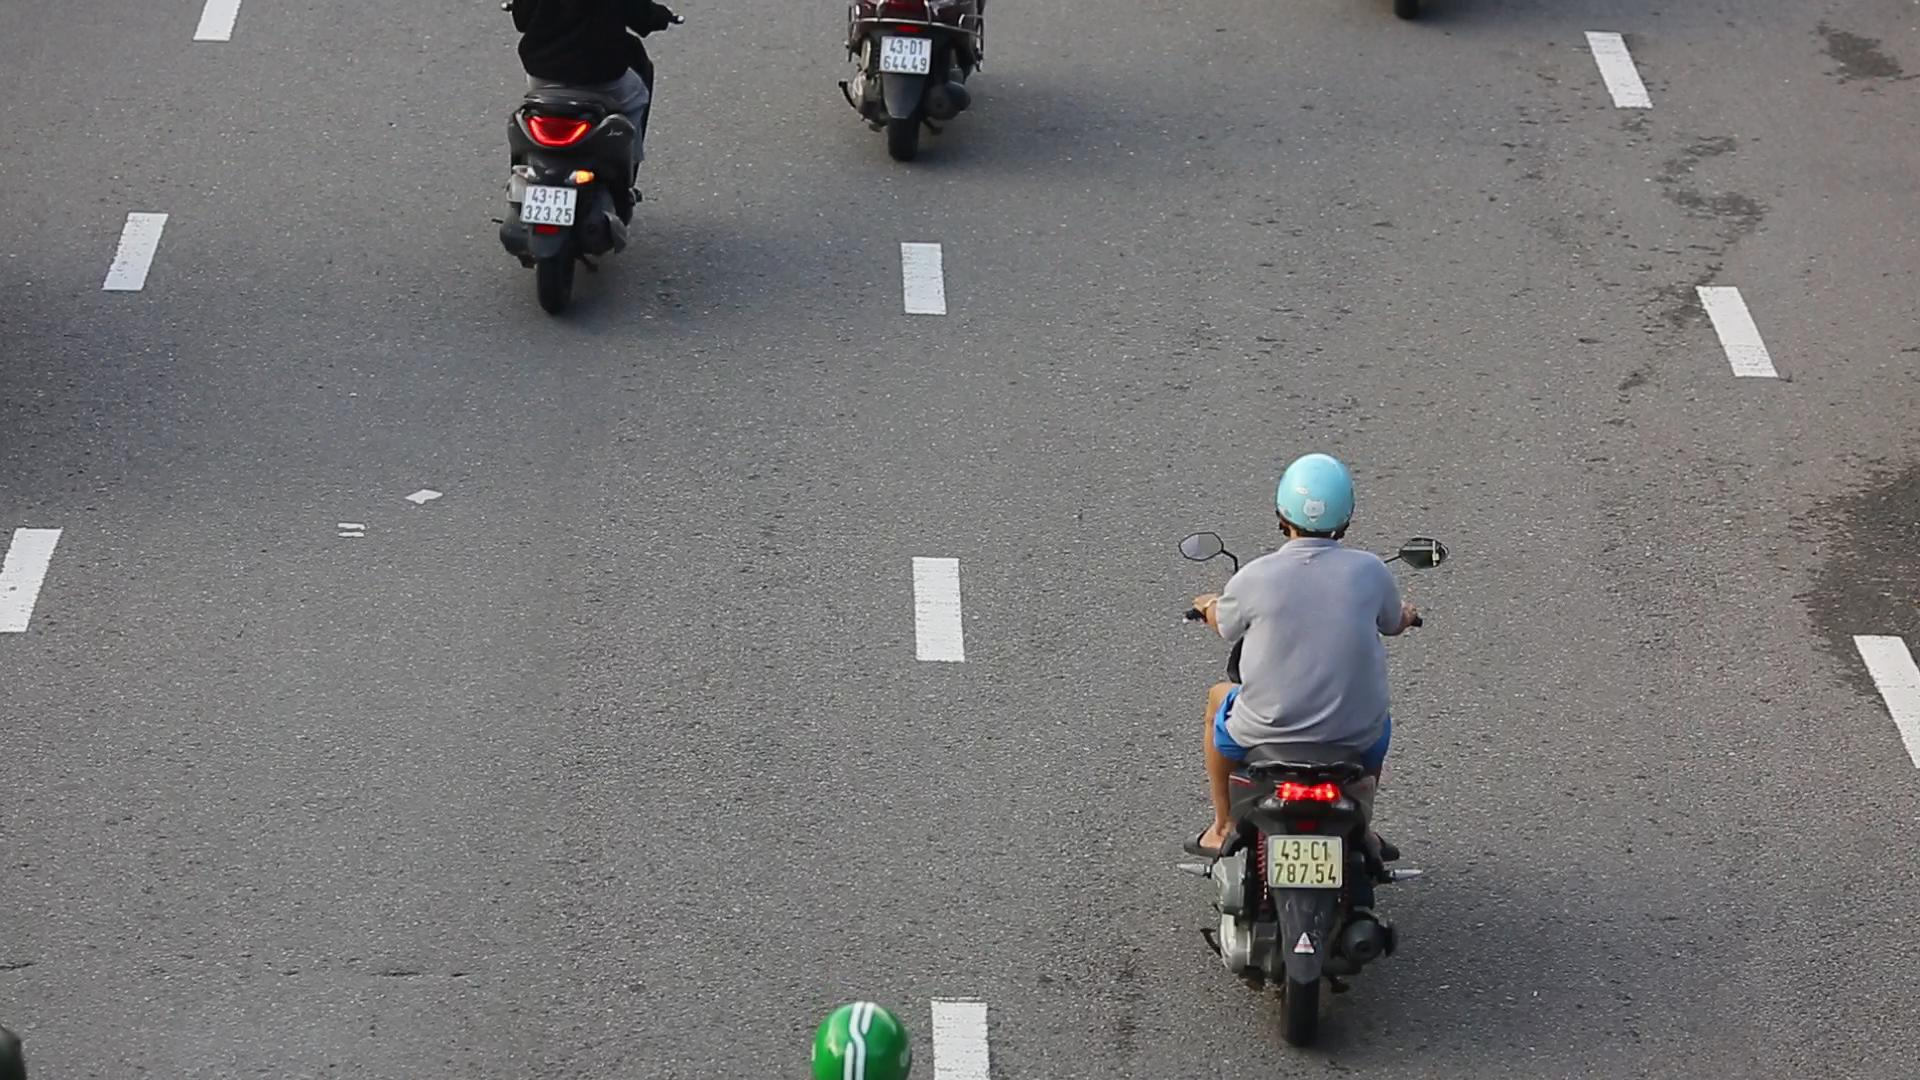motobike: (1153, 448, 1462, 1064)
